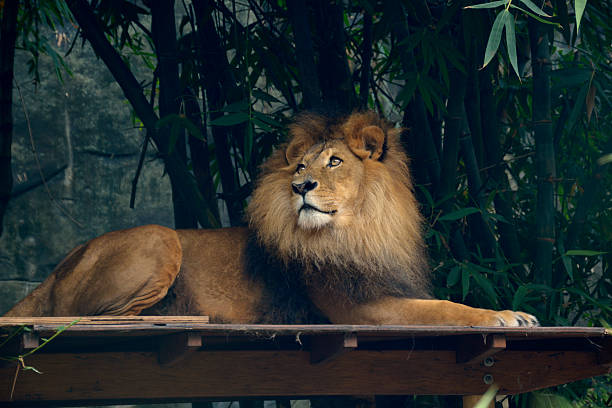lion: (229, 93, 465, 321)
